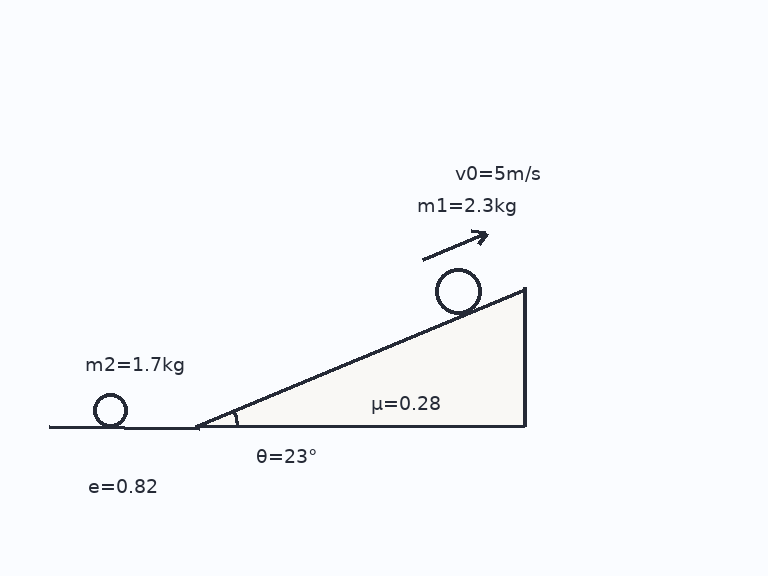ball: (433, 266, 483, 316), (91, 391, 129, 429)
ramp: (195, 286, 527, 429)
